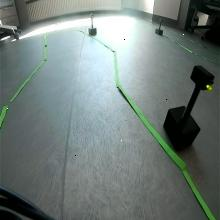green: (190, 64, 216, 92)
